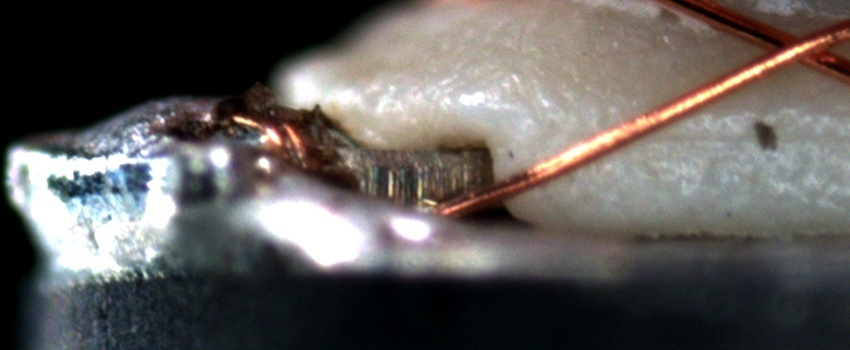CL: (738, 17, 844, 78)
DL: (617, 103, 850, 167)
TE: (237, 102, 324, 176)
